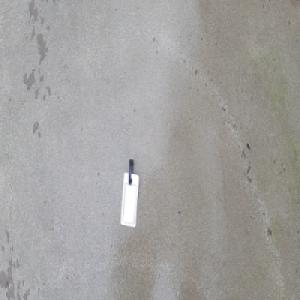LuggageTag: (119, 157, 139, 229)
